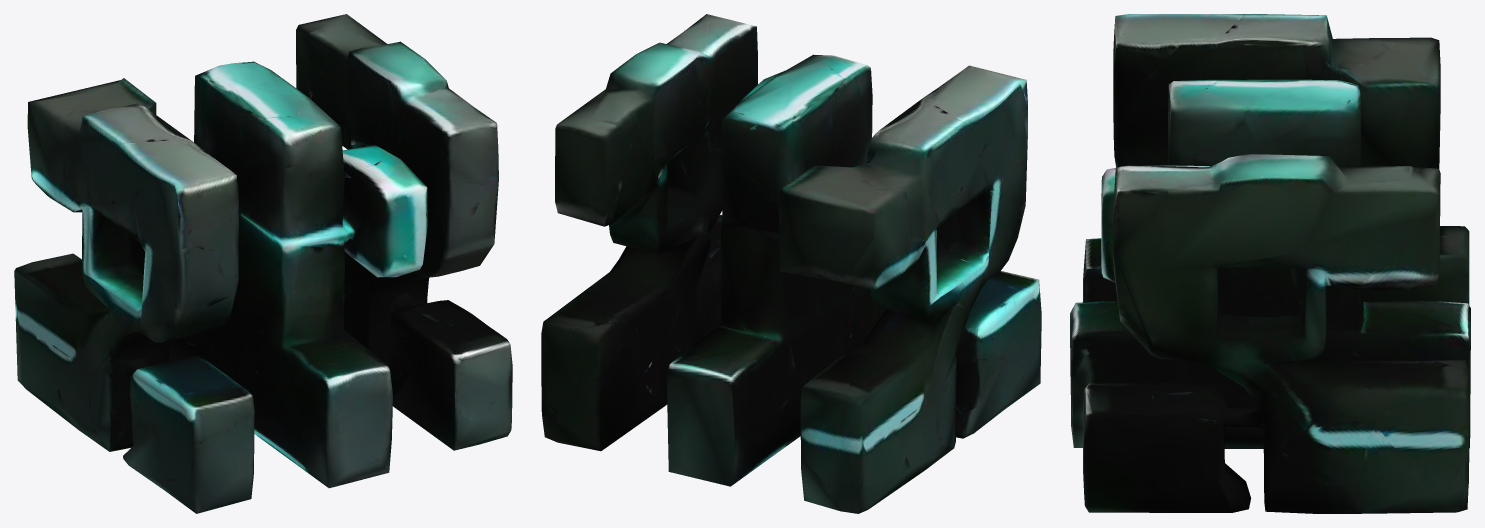
The model's file is api-node.glb.
3 views of the same model, side by side, from view 1: azimuth 30°, elevation 25°; view 2: azimuth 150°, elevation 25°; view 3: azimuth 270°, elevation 25° (orthographic). The views are drawn at different scales.
Parts seen in each view (by area): view 1: model; view 2: model; view 3: model.
Boxes of the visible parts, x1,y1,x2,y2 form: model: (14,14,512,513); model: (541,14,1041,513); model: (1070,14,1470,513).
Bounding box in the file's own units: 1.79 × 1.72 × 1.83.
Materials: 1 (1 with a texture image).
